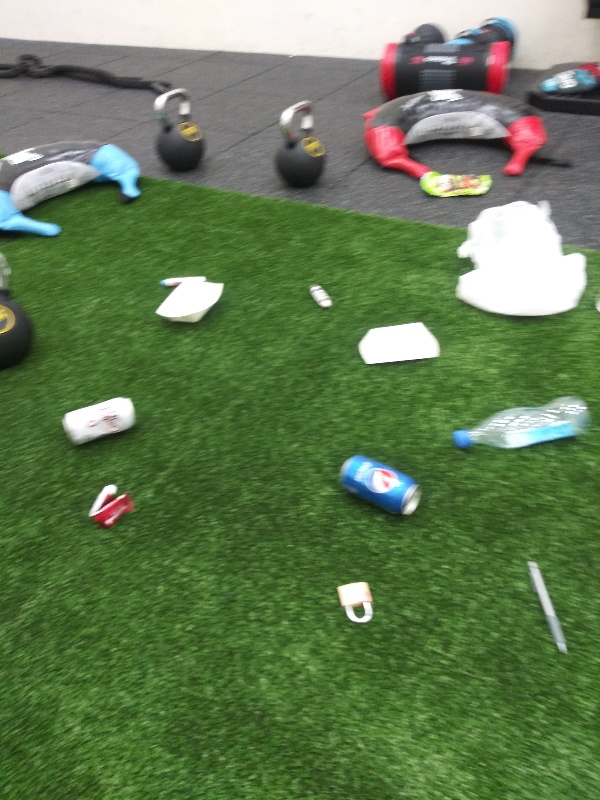bag: (419, 166, 496, 200)
bottle: (448, 388, 591, 455)
can: (332, 453, 425, 524), (60, 389, 141, 446)
plate: (354, 321, 445, 369), (153, 275, 234, 325)
